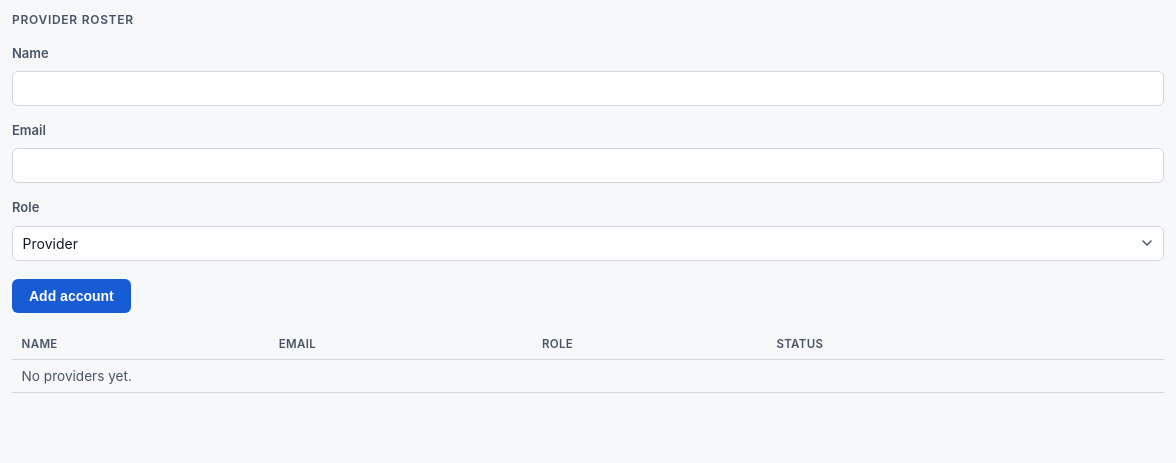
Test: AdminRosterPage › creates a provider with an auto-generated password and shows it once
In the field labelled "Name": (588, 88) [12,71,1164,106], type "New Doc"
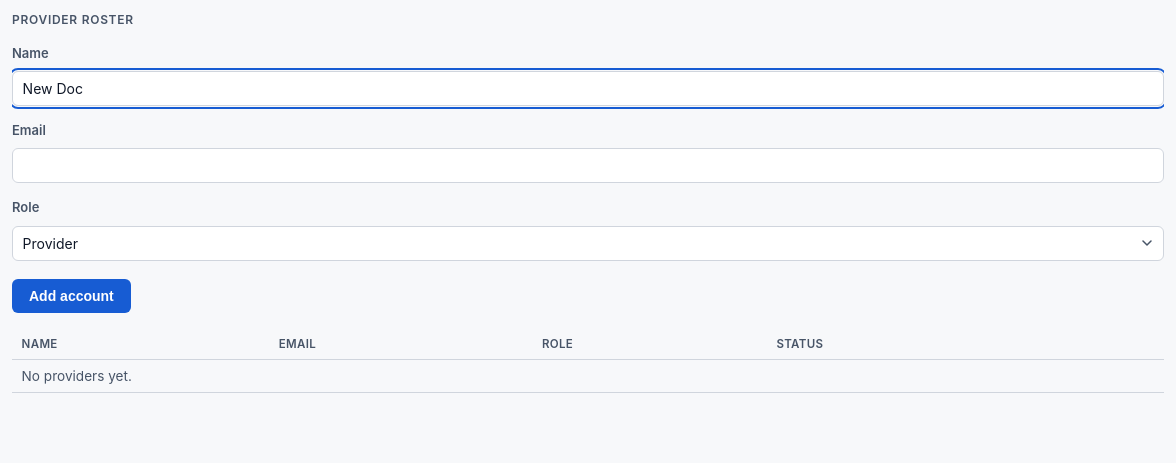
In the field labelled "Email": (588, 166) [12,148,1164,183], type "new@clinic.dev"
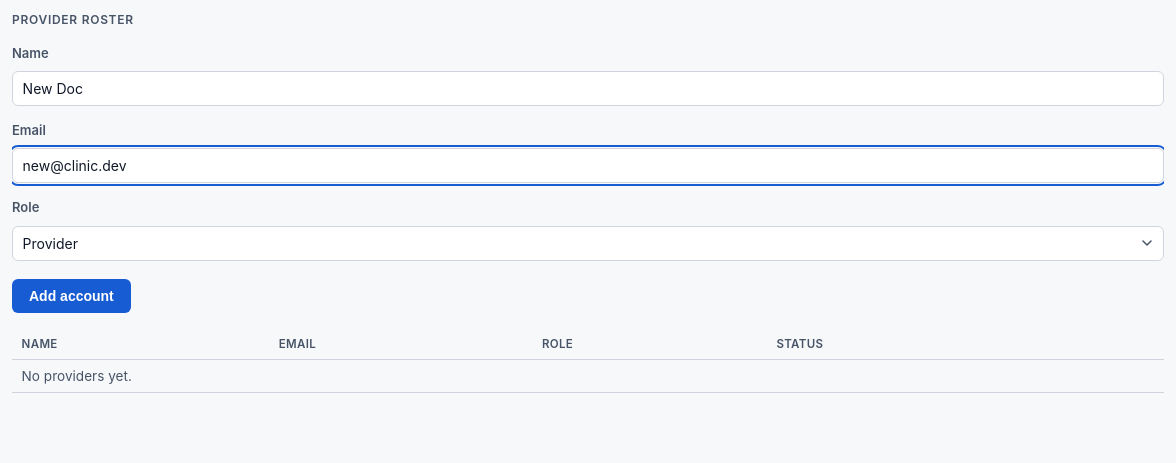
Click the button "Add account": (71, 296) [12,279,131,313]
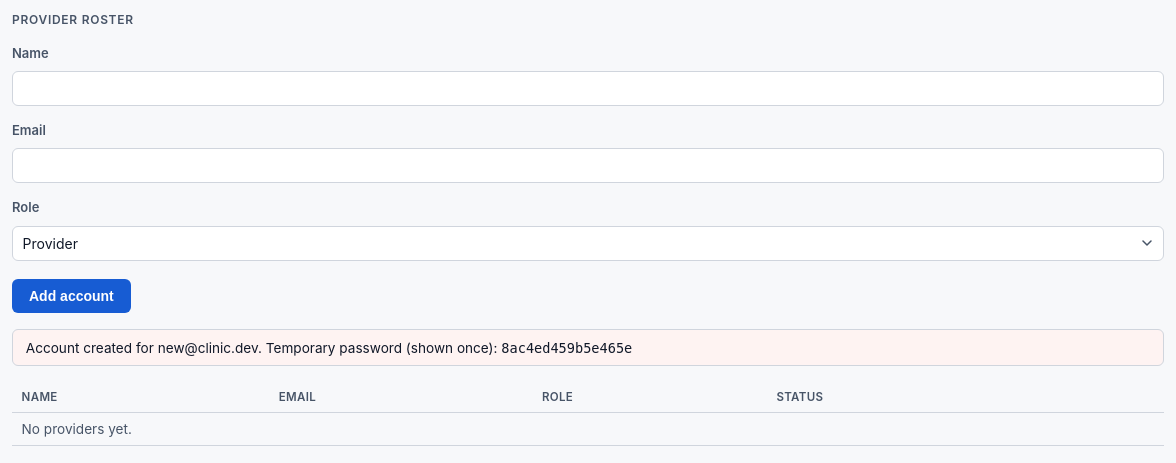
Expected: the text "Temporary password" is shown, [258,340,498,356]
